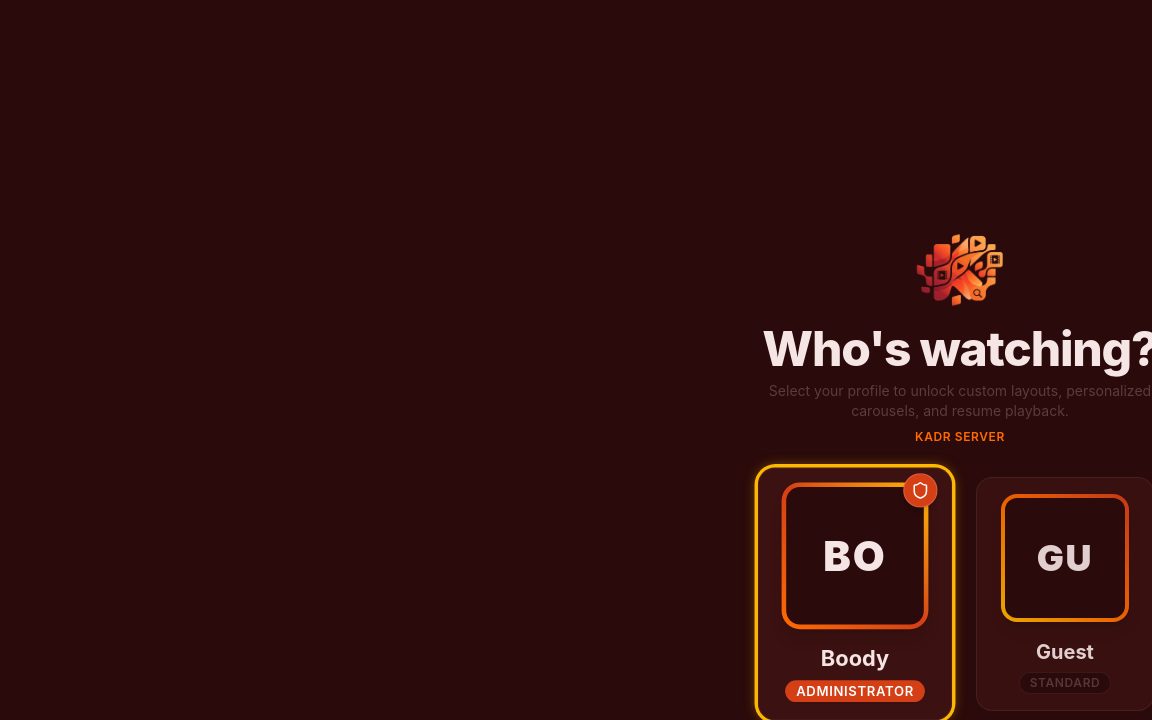
it: ProfileSelectScreen › opens PinPadModal when a profile card is selected
(page scrolled)
Expected: the text "Enter PIN" is not shown
Note: Select Boody's profile card
What coordinates should you click on to do the following:
click the text "Boody"
I would click on:
 (855, 658)
Its box is 821,645 -> 889,672.
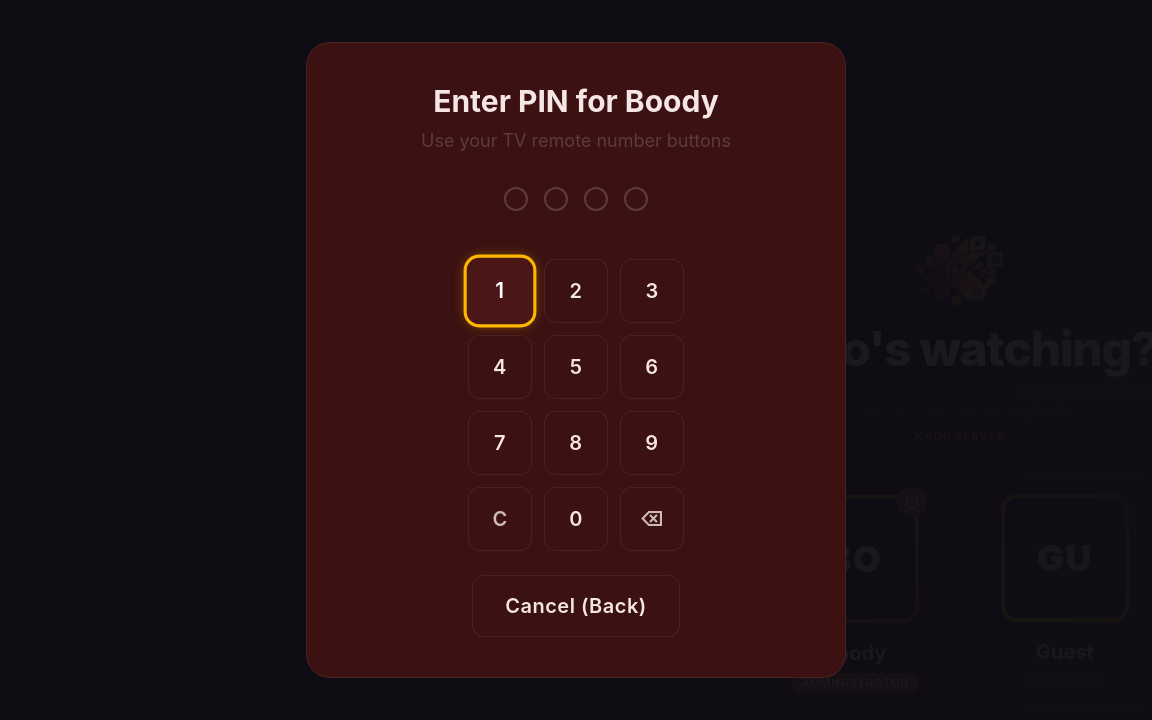
Result: the heading "Enter PIN for Boody" is shown at 433,83 -> 719,119
